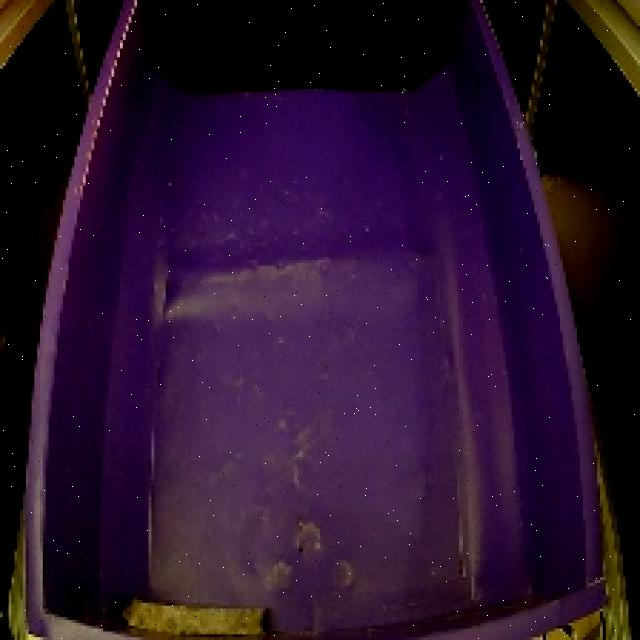china: (108, 577, 286, 640)
